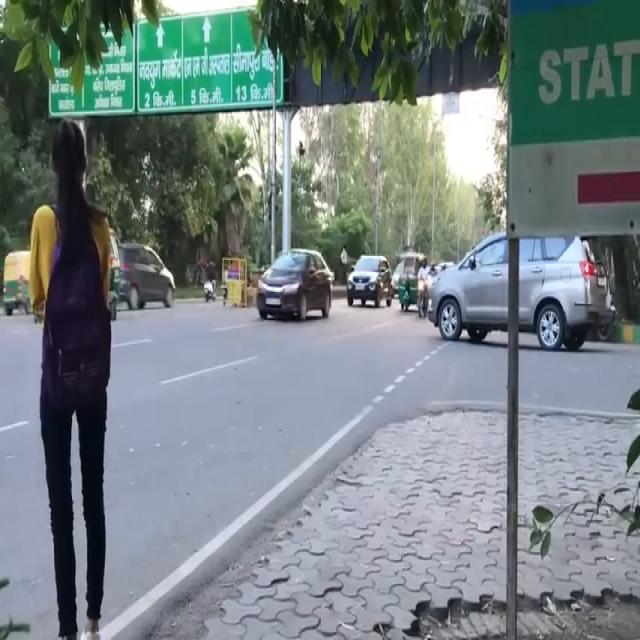MOTORCYCLE: (415, 274, 430, 316)
SED: (256, 243, 334, 325)
SUV: (430, 238, 615, 360), (348, 253, 393, 312)
